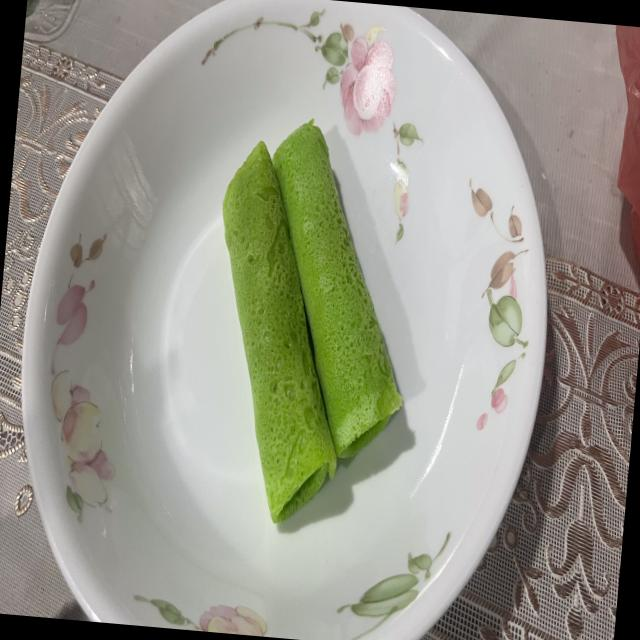Kuih-Ketayap: (272, 121, 402, 458), (222, 141, 336, 522)
